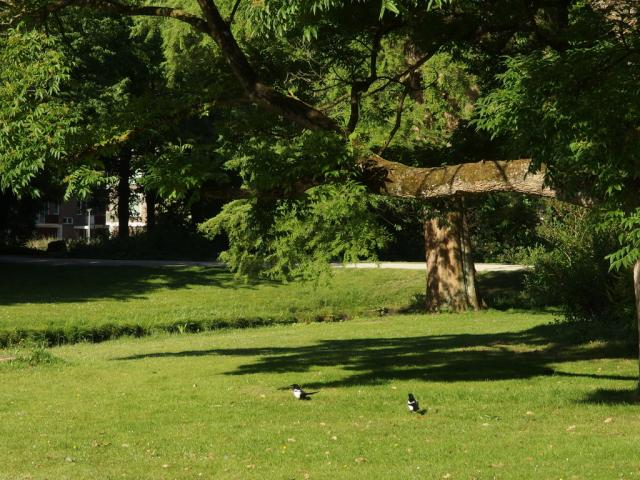Bird: (286, 382, 318, 400), (408, 391, 422, 412)
